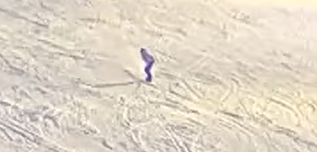snowboarder: (136, 47, 157, 82)
